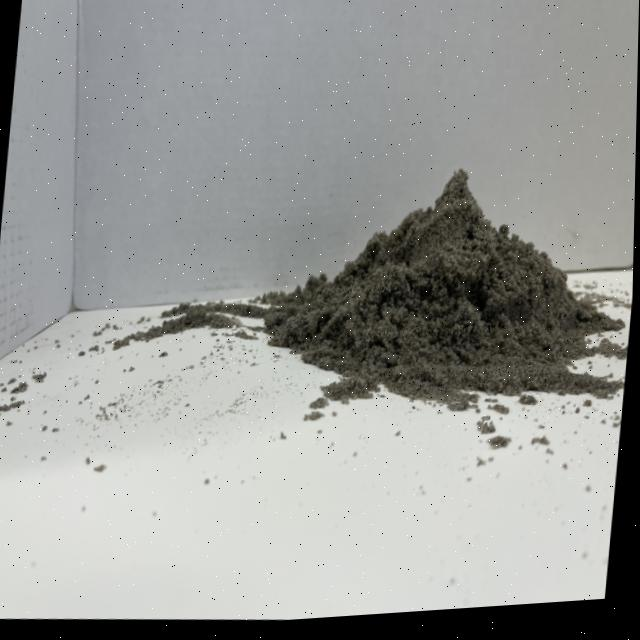sand: (229, 121, 636, 447)
